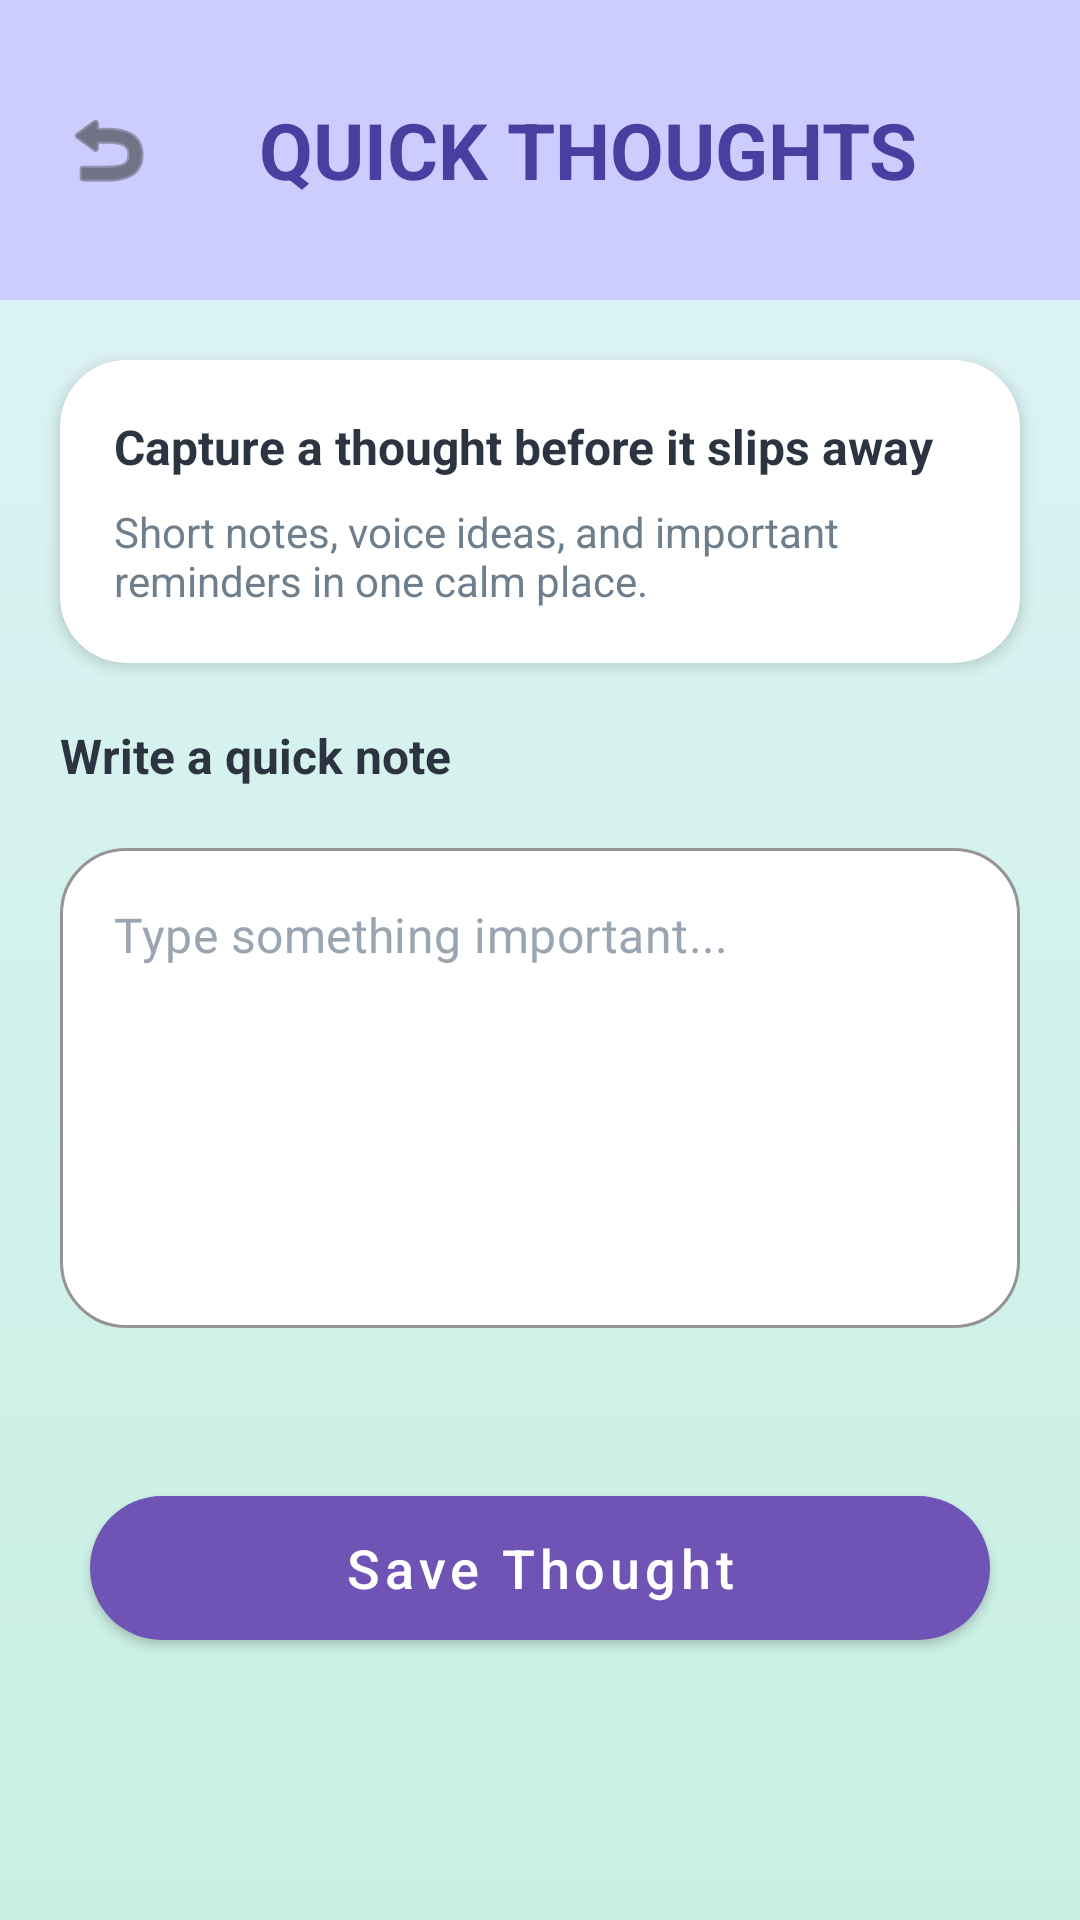

Icon bounding boxes for this 1080w x 1920h phone screenshot, format (x1, y1, x2, y2):
revert: (75, 119, 144, 182)
